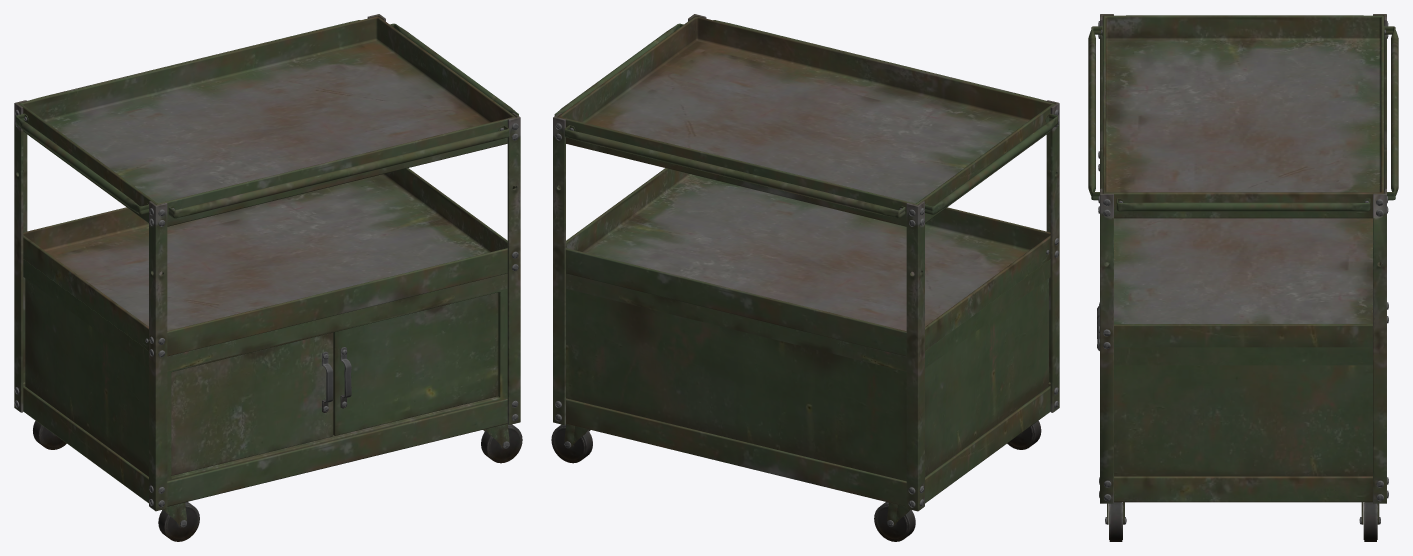
File: ph_industrial_storage_cart.glb
The picture shows the model from 3 angles, left to right: view 1: azimuth 30°, elevation 25°; view 2: azimuth 150°, elevation 25°; view 3: azimuth 270°, elevation 25°; orthographic projection.
Parts seen in each view (by area): view 1: industrial_storage_cart; view 2: industrial_storage_cart; view 3: industrial_storage_cart.
Boxes of the visible parts, x1,y1,x2,y2 form: industrial_storage_cart: (14, 14, 522, 541); industrial_storage_cart: (551, 14, 1059, 541); industrial_storage_cart: (1088, 14, 1398, 541).
Bounding box in the file's own units: 1.6 × 1.38 × 1.1.
1 material, 1 textured.
